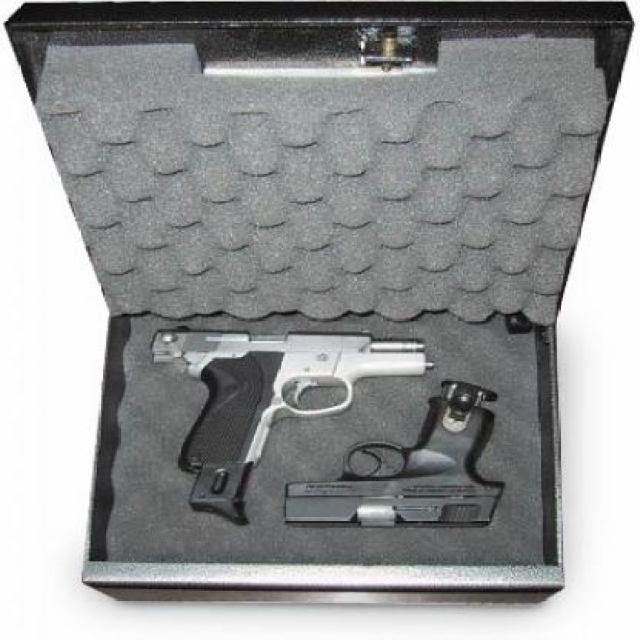guns: (155, 289, 517, 589)
